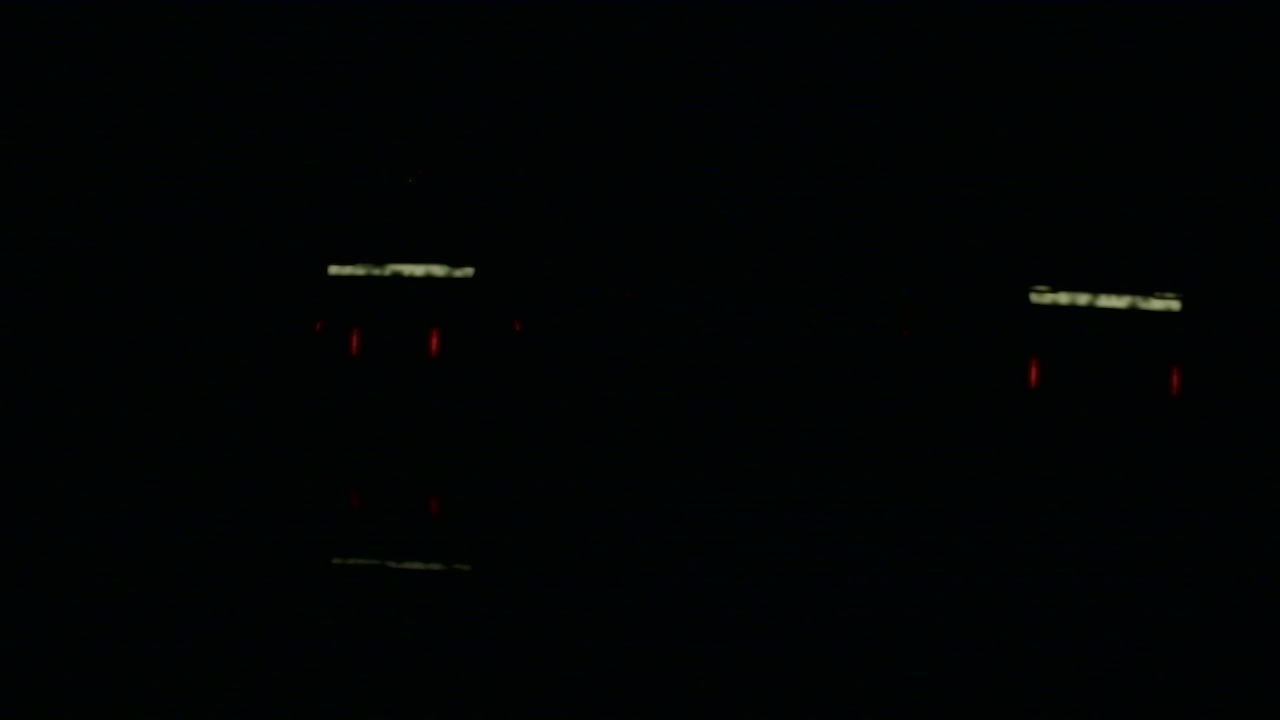lamp: (1171, 359, 1181, 391), (428, 328, 439, 356), (1030, 359, 1038, 392), (351, 327, 359, 356)
pair1: (351, 329, 438, 356)
pair2: (1030, 360, 1181, 392)
